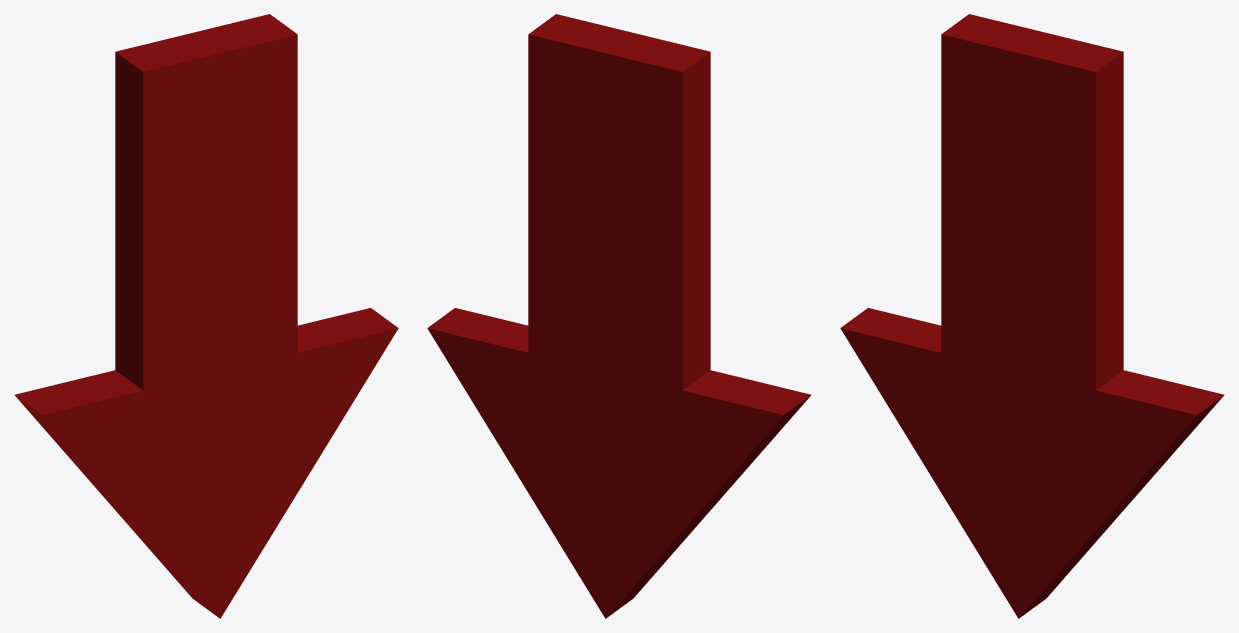
3 renders of one model, left to right at view 1: azimuth 30°, elevation 25°; view 2: azimuth 150°, elevation 25°; view 3: azimuth 330°, elevation 25°, orthographic.
Parts seen in each view (by area): view 1: Line001; view 2: Line001; view 3: Line001.
Boxes of the visible parts, x1=… form: Line001: x1=14, y1=14, x2=398, y2=618; Line001: x1=427, y1=14, x2=811, y2=618; Line001: x1=840, y1=14, x2=1224, y2=618.
Bounding box in the file's own units: 0.5395 × 0.8178 × 0.0729.
